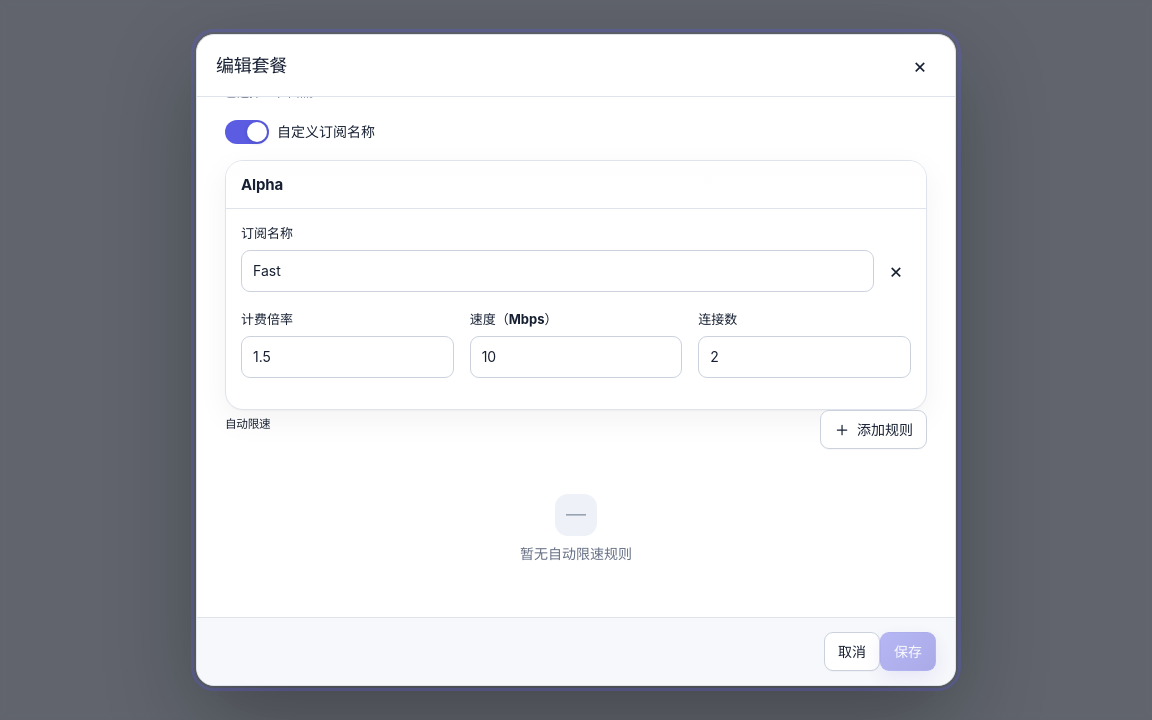
it: React subscription management dialogs › preserves plan node overrides and sends the loaded revision, without claiming pending access applied
This screenshot has width=1152, height=720.
(page scrolled)
Replace the text in the number field named "Alpha：计费倍率" with "2". click: (347, 357)
box: [241,336,454,378]
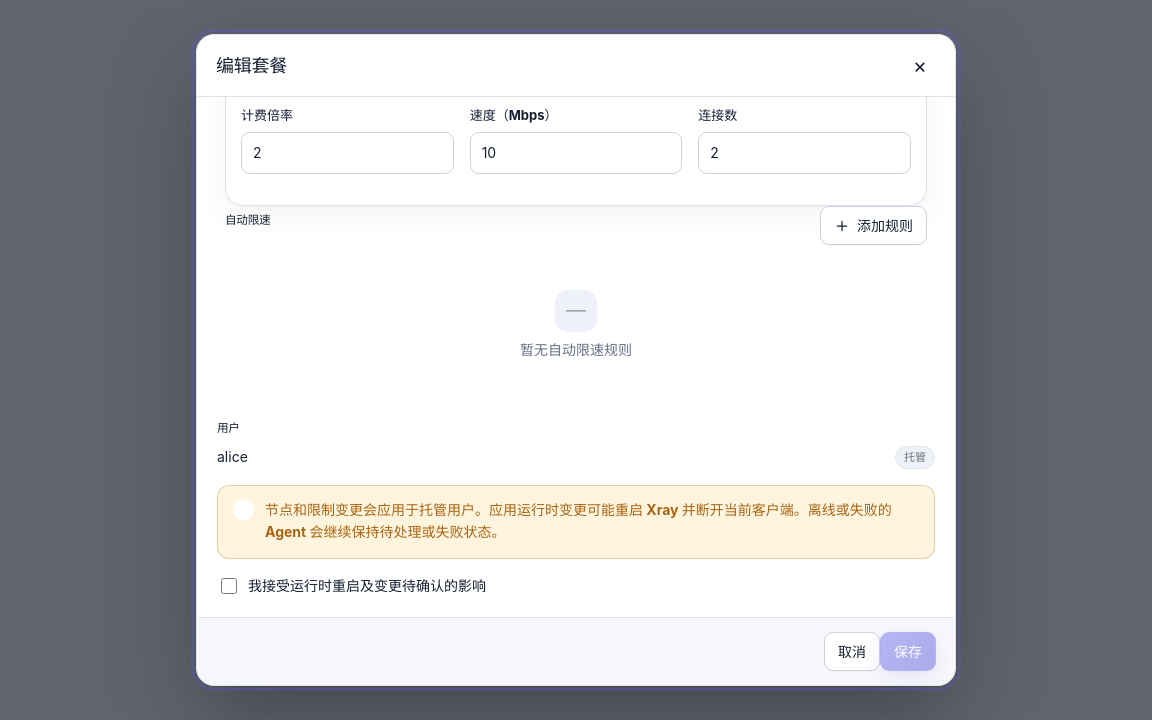
Click the checkbox labelled "我接受运行时重启及变更待确认的影响". click: (229, 586)
box: [221,578,237,594]
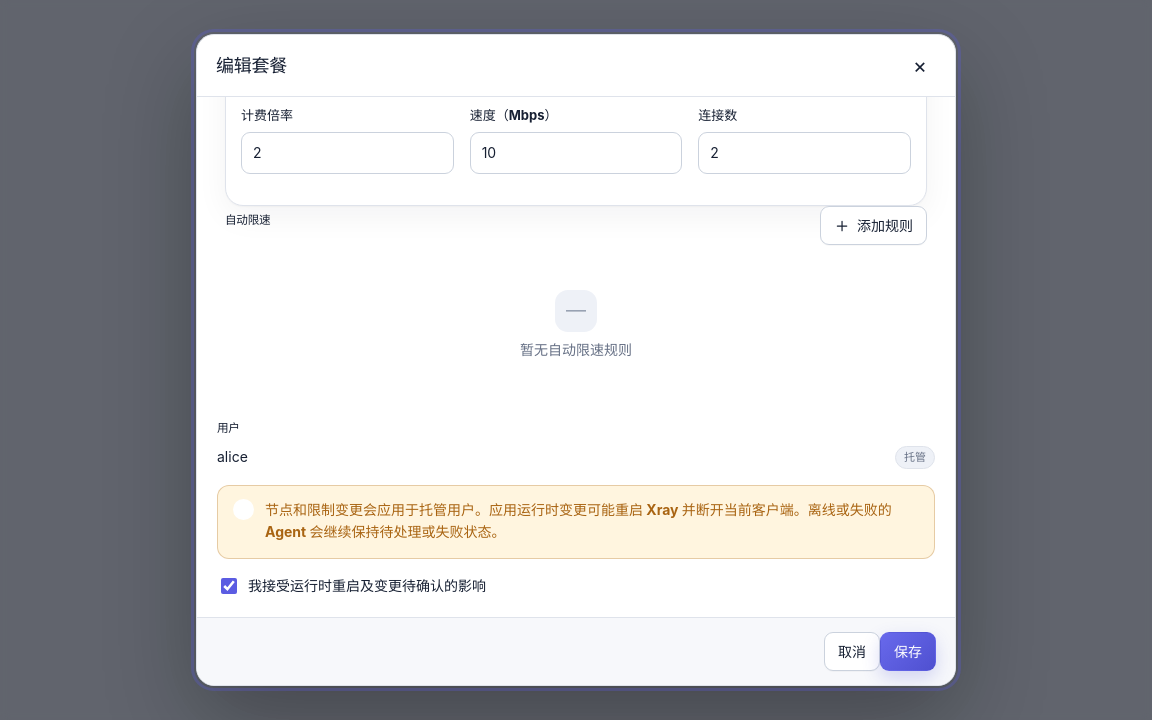
Click the button "保存". click: (908, 652)
box: [880,632,936,671]
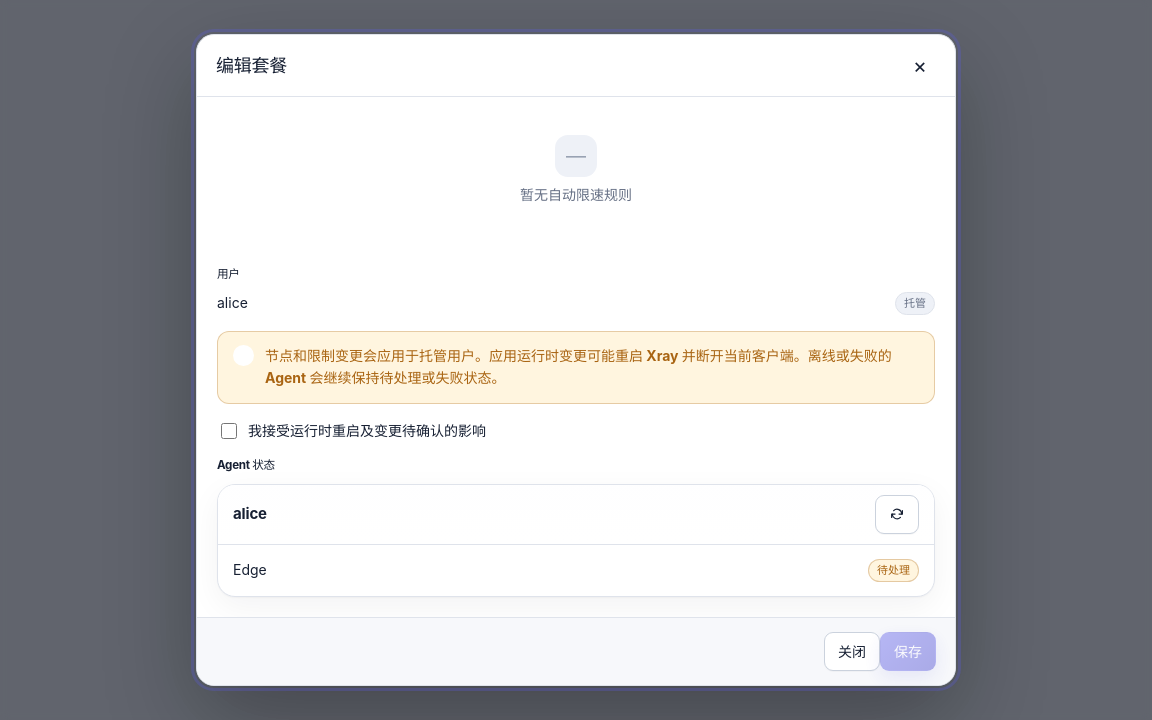
Check: the text "已应用" is not shown
Check: the text "待处理" is shown, box [877,563,910,577]
